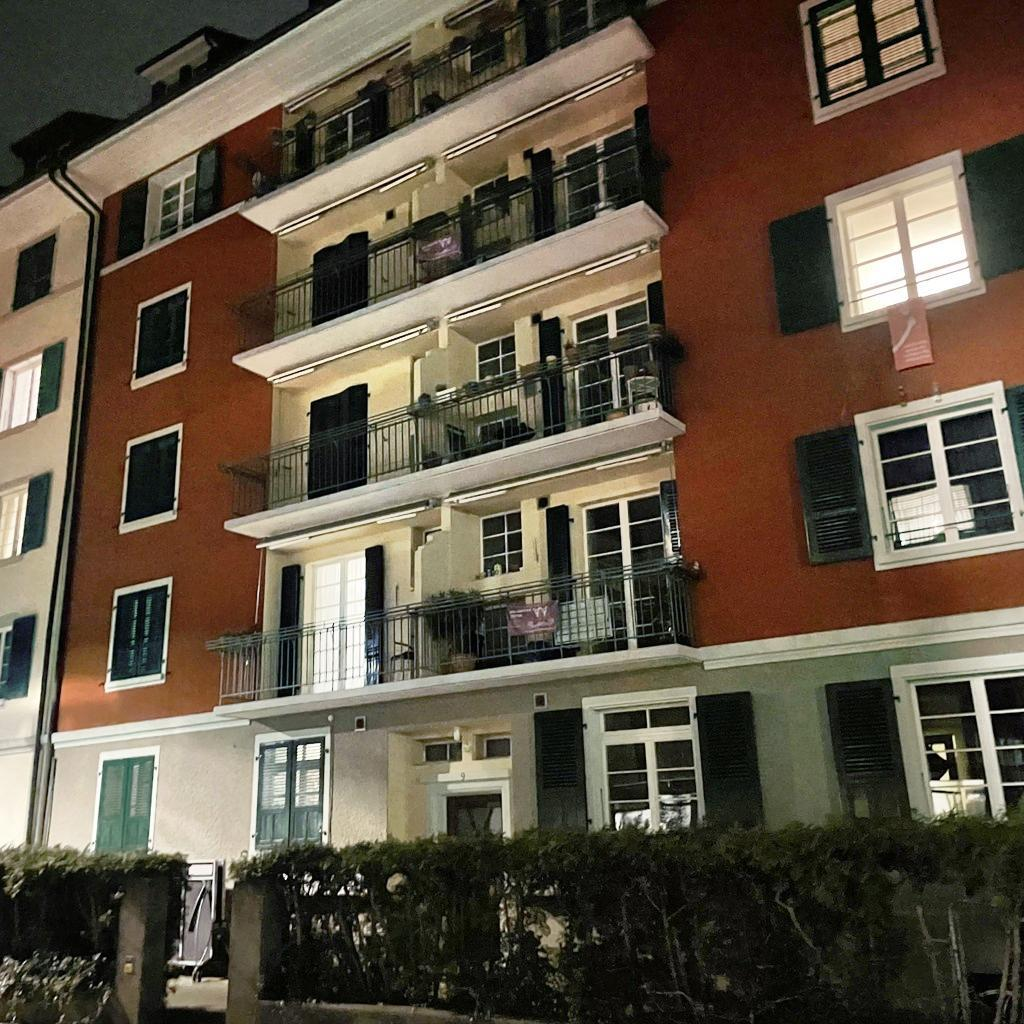balcony-fence: (229, 123, 673, 367), (215, 322, 689, 532), (235, 0, 655, 217), (203, 549, 708, 719)
facade: (0, 0, 1024, 1012)
vegetation: (229, 790, 1024, 1024), (0, 844, 193, 1024)
window: (864, 393, 1019, 559), (833, 160, 976, 321), (902, 662, 1024, 817), (582, 490, 673, 652), (805, 0, 937, 110), (593, 695, 701, 826), (571, 297, 658, 426), (251, 731, 327, 856), (562, 121, 641, 230), (309, 550, 367, 693), (307, 382, 369, 499), (109, 581, 170, 684), (94, 753, 156, 851), (311, 230, 369, 328), (122, 429, 180, 527), (135, 287, 189, 382), (11, 230, 58, 313), (555, 0, 628, 49), (323, 96, 374, 165), (481, 508, 524, 578), (483, 595, 528, 658), (158, 170, 196, 242), (444, 791, 503, 836), (471, 171, 511, 229), (0, 481, 28, 561), (475, 331, 517, 382), (468, 25, 506, 76), (476, 413, 518, 452), (423, 738, 462, 762), (0, 624, 13, 689), (482, 734, 511, 759)
